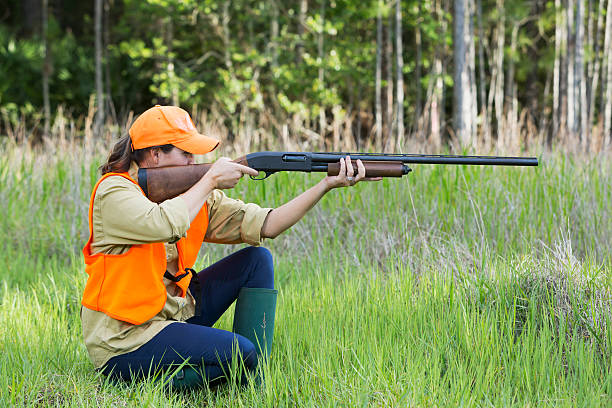shotgun: (141, 151, 538, 211)
